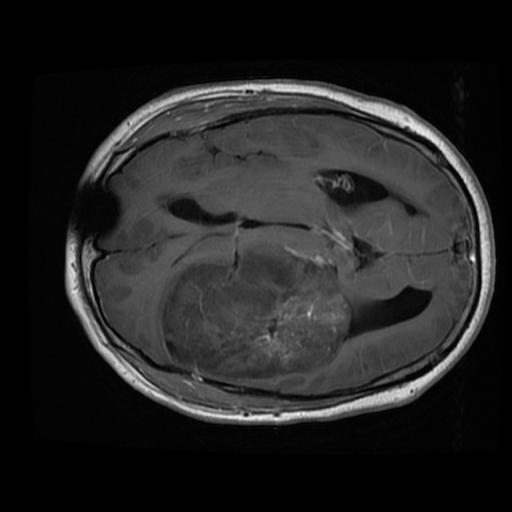glioma: (160, 249, 351, 380)
